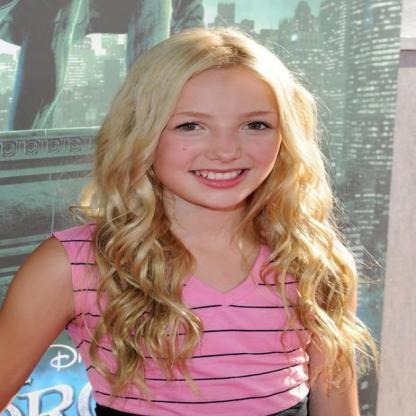long-hair: (80, 210, 344, 249)
